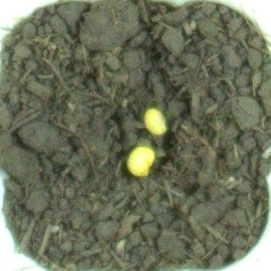chilli seed: (125, 145, 156, 178), (142, 106, 169, 137)
